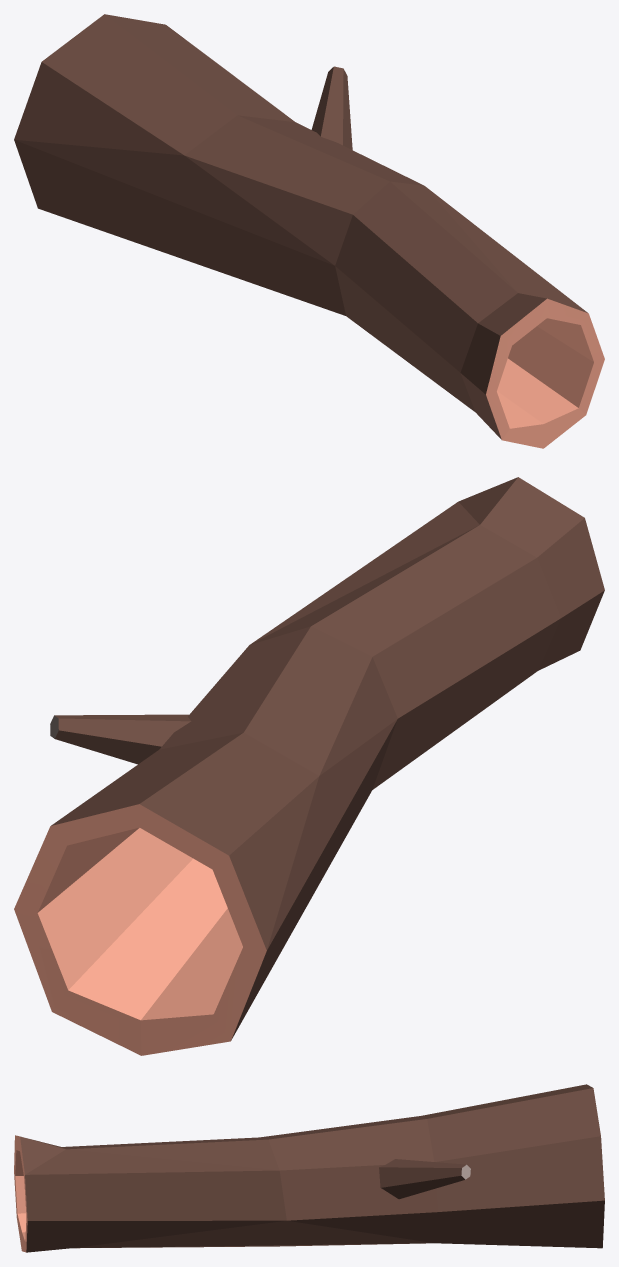
The model's file is prop_011.fbx.
3 views of the same model, one above another, from view 1: azimuth 30°, elevation 25°; view 2: azimuth 150°, elevation 25°; view 3: azimuth 270°, elevation 25° (orthographic). The views are drawn at different scales.
Visible parts, largest first — view 1: prop.011; view 2: prop.011; view 3: prop.011.
Boxes of the visible parts, left/top/right/bottom form: prop.011: left=14, top=14, right=604, bottom=448; prop.011: left=14, top=477, right=604, bottom=1055; prop.011: left=14, top=1084, right=604, bottom=1252.
Bounding box in the file's own units: 149 × 112 × 390.
1 material, 1 textured.
